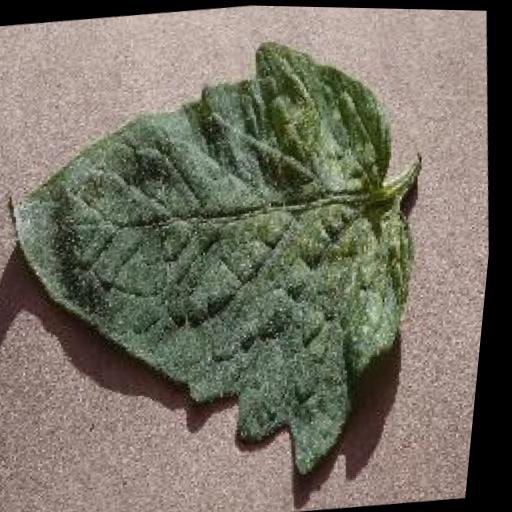Spider Mites: (0, 21, 453, 503)
